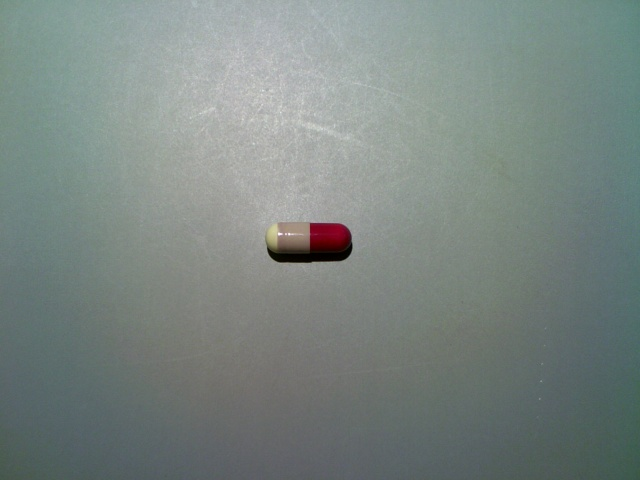capsule: (263, 220, 353, 259)
